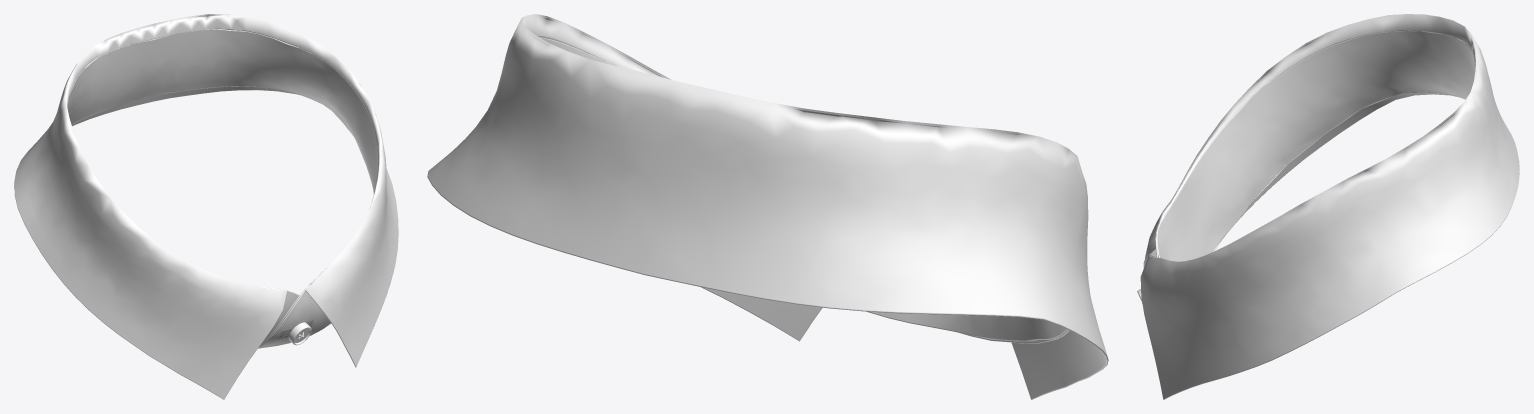
Rendered from Semi_Cutaway_Collar.glb.
3 views of the same model, side by side, from view 1: azimuth 30°, elevation 25°; view 2: azimuth 150°, elevation 25°; view 3: azimuth 270°, elevation 25° (orthographic). The views are drawn at different scales.
Parts seen in each view (by area): view 1: Pattern_4935173_Node, inner_Node, Pattern_4935171_Node, button; view 2: Pattern_4935173_Node, inner_Node; view 3: Pattern_4935173_Node, inner_Node, Pattern_4935171_Node.
Boxes of the visible parts, x1,y1,x2,y2 form: Pattern_4935173_Node: (14,14,398,399); inner_Node: (67,29,377,345); Pattern_4935171_Node: (71,28,378,348); button: (288,322,311,345); Pattern_4935173_Node: (427,14,1108,399); inner_Node: (540,37,1066,340); Pattern_4935173_Node: (1140,14,1519,399); inner_Node: (1146,30,1474,261); Pattern_4935171_Node: (1143,30,1465,268).
Size of the model in its own units: 16.01 by 11.54 by 13.18.
6 materials, 1 textured.
